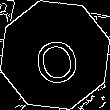O_N: (27, 25, 83, 85)
